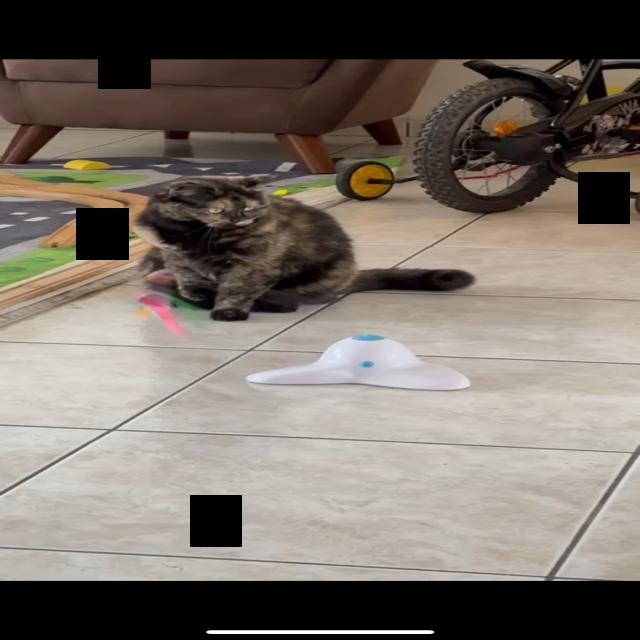authorized: (131, 174, 475, 322)
